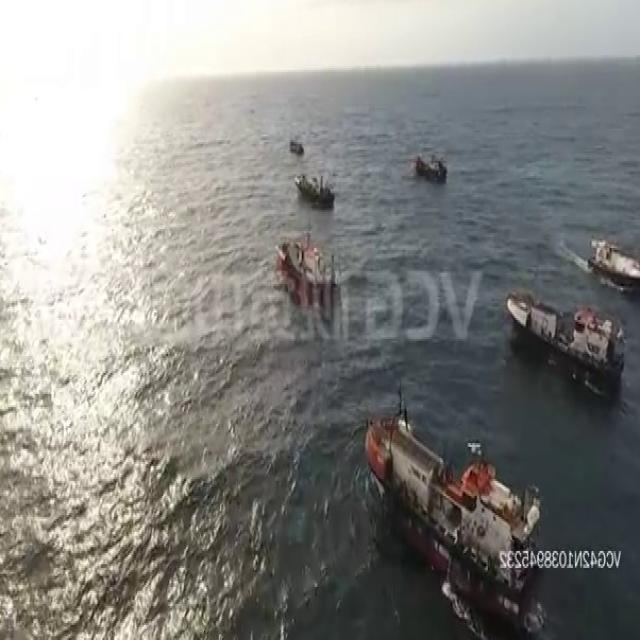houseboat: (499, 292, 626, 376), (275, 222, 335, 291), (588, 225, 640, 292), (294, 169, 333, 210), (414, 140, 446, 183), (285, 135, 307, 157)
passenger ship: (364, 399, 546, 618)
